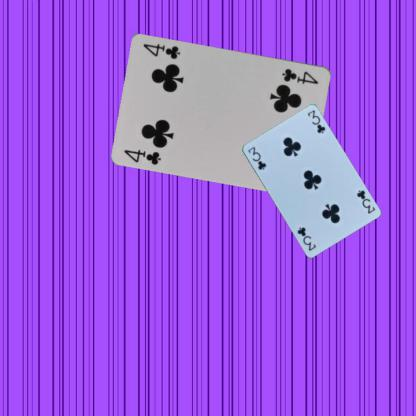3c: (354, 187, 376, 215), (245, 144, 267, 171)
4c: (121, 147, 163, 166), (280, 66, 320, 85)
